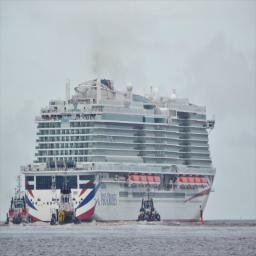cruises: (20, 74, 219, 228)
